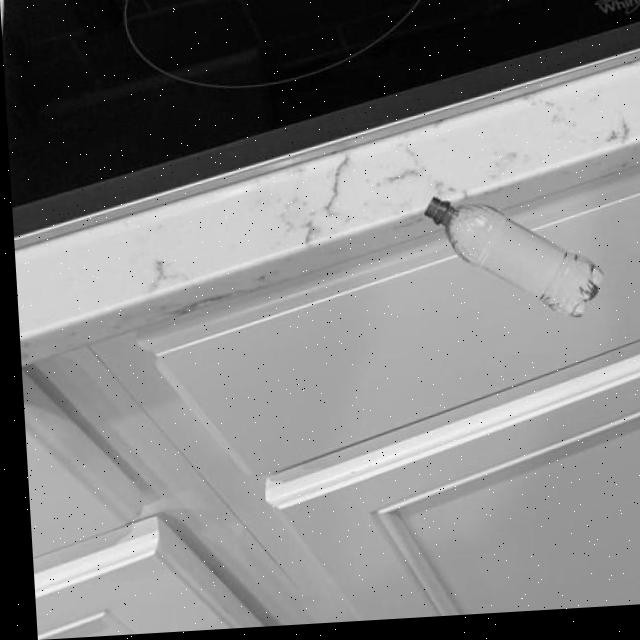bottle: (419, 191, 601, 332)
